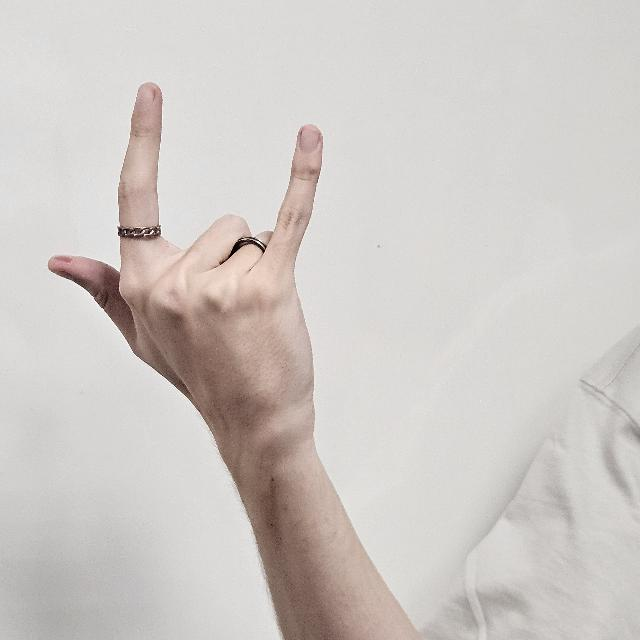Cima: (48, 79, 322, 513)
